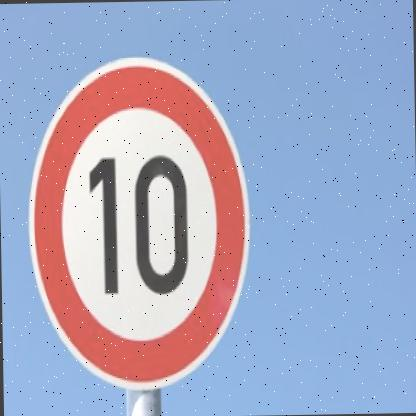speedlimit: (27, 52, 252, 387)
